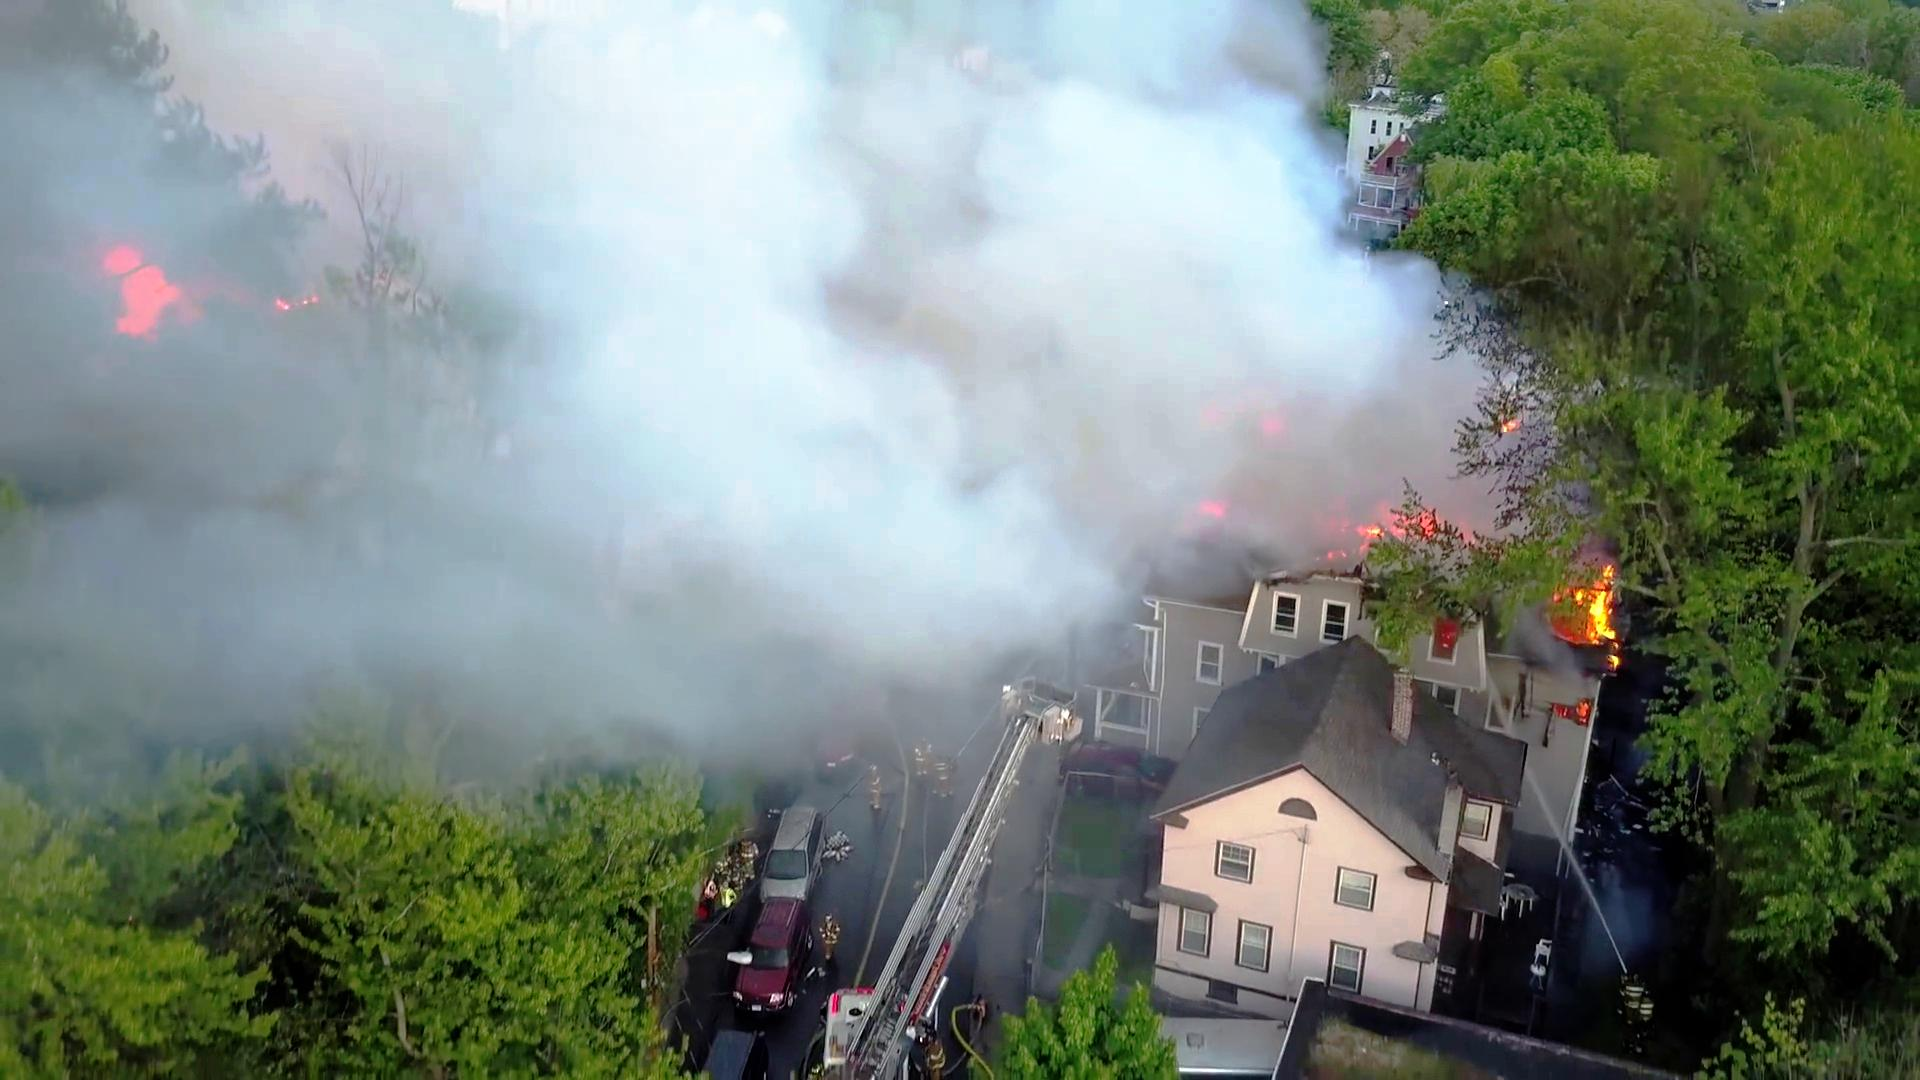fire: (1560, 546, 1625, 638)
smoke: (411, 16, 1255, 509)
